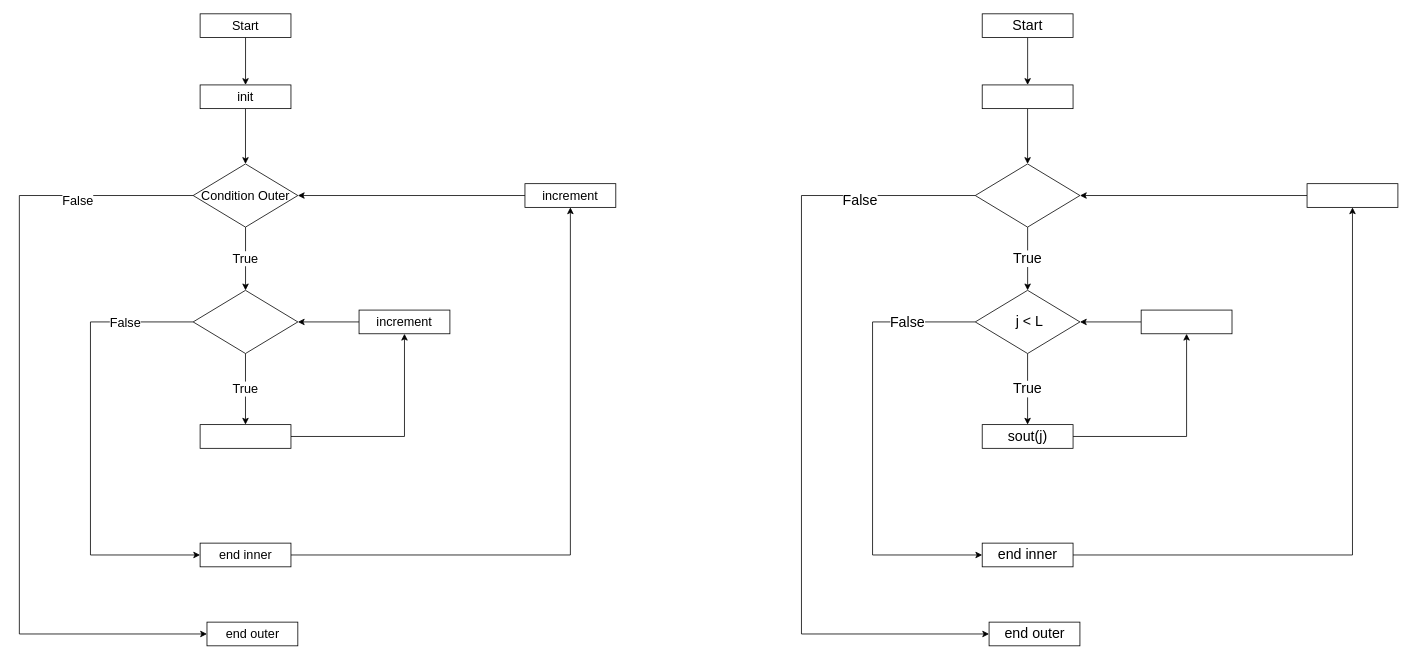
Image size: 1412x660. Some labels were removed from this diagram. Each missing label, with the centre of its shape:
Condition Inner: point 245,322
i ++: point 1352,195
i < L: point 1027,195
i = 0: point 1027,96
j ++: point 1186,321
Statements: point 245,436
